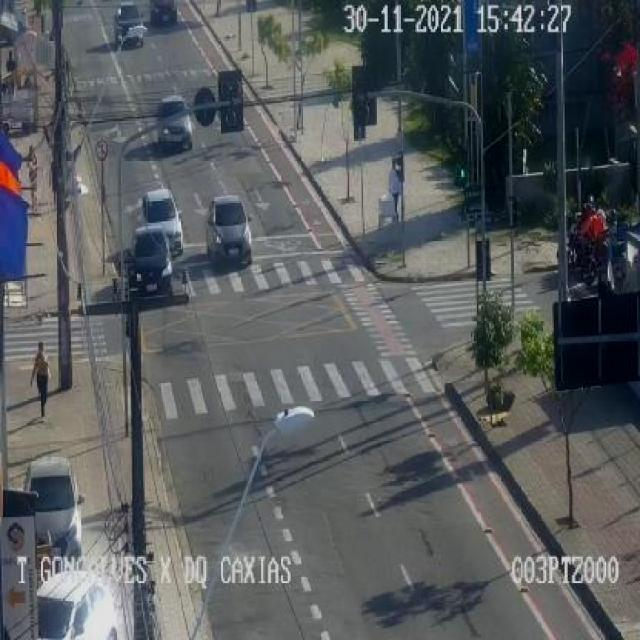Car: (206, 194, 253, 264), (129, 224, 174, 295), (142, 189, 188, 255), (158, 95, 195, 152)
